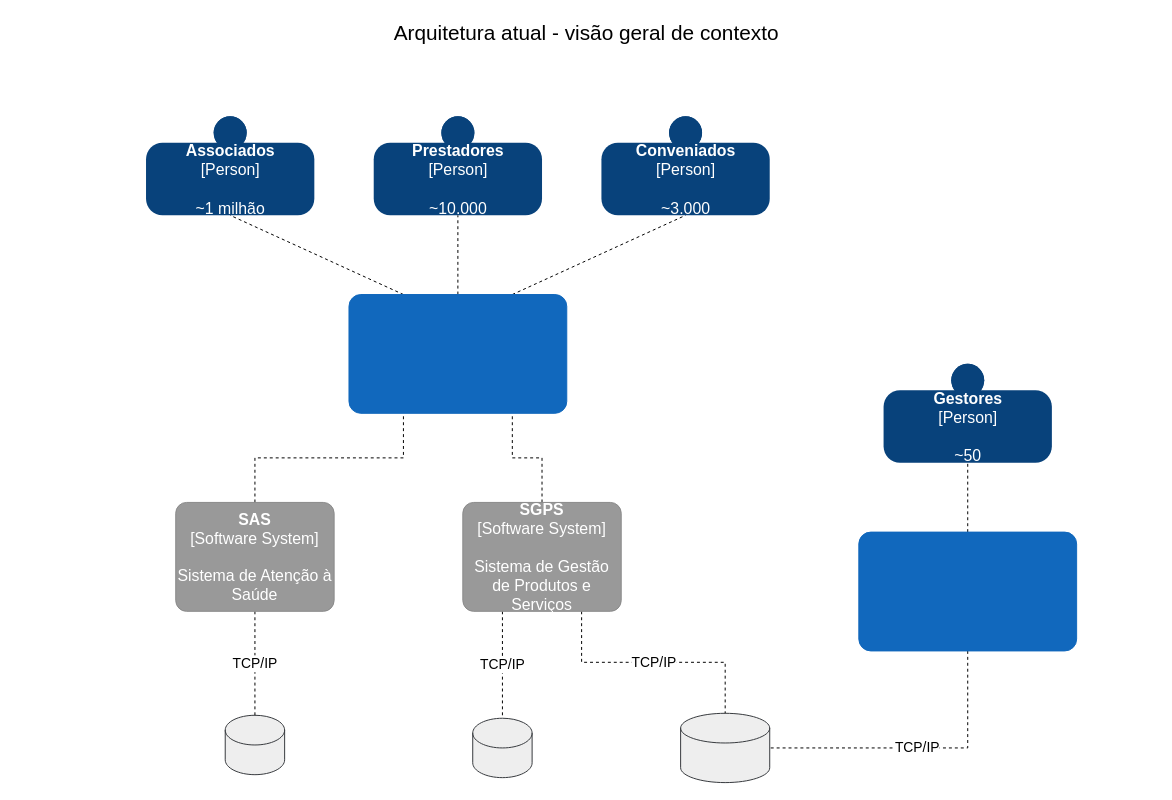
This 1172x800 diagram has some shape labels left out. Here are the shapes that lost their labels. From the top down, the centre of each, then its label:
point 457,353: Portal Corporativo [Software System] WEB
point 967,591: SAF [Software System] Sistema Administrativo-Financeiro
